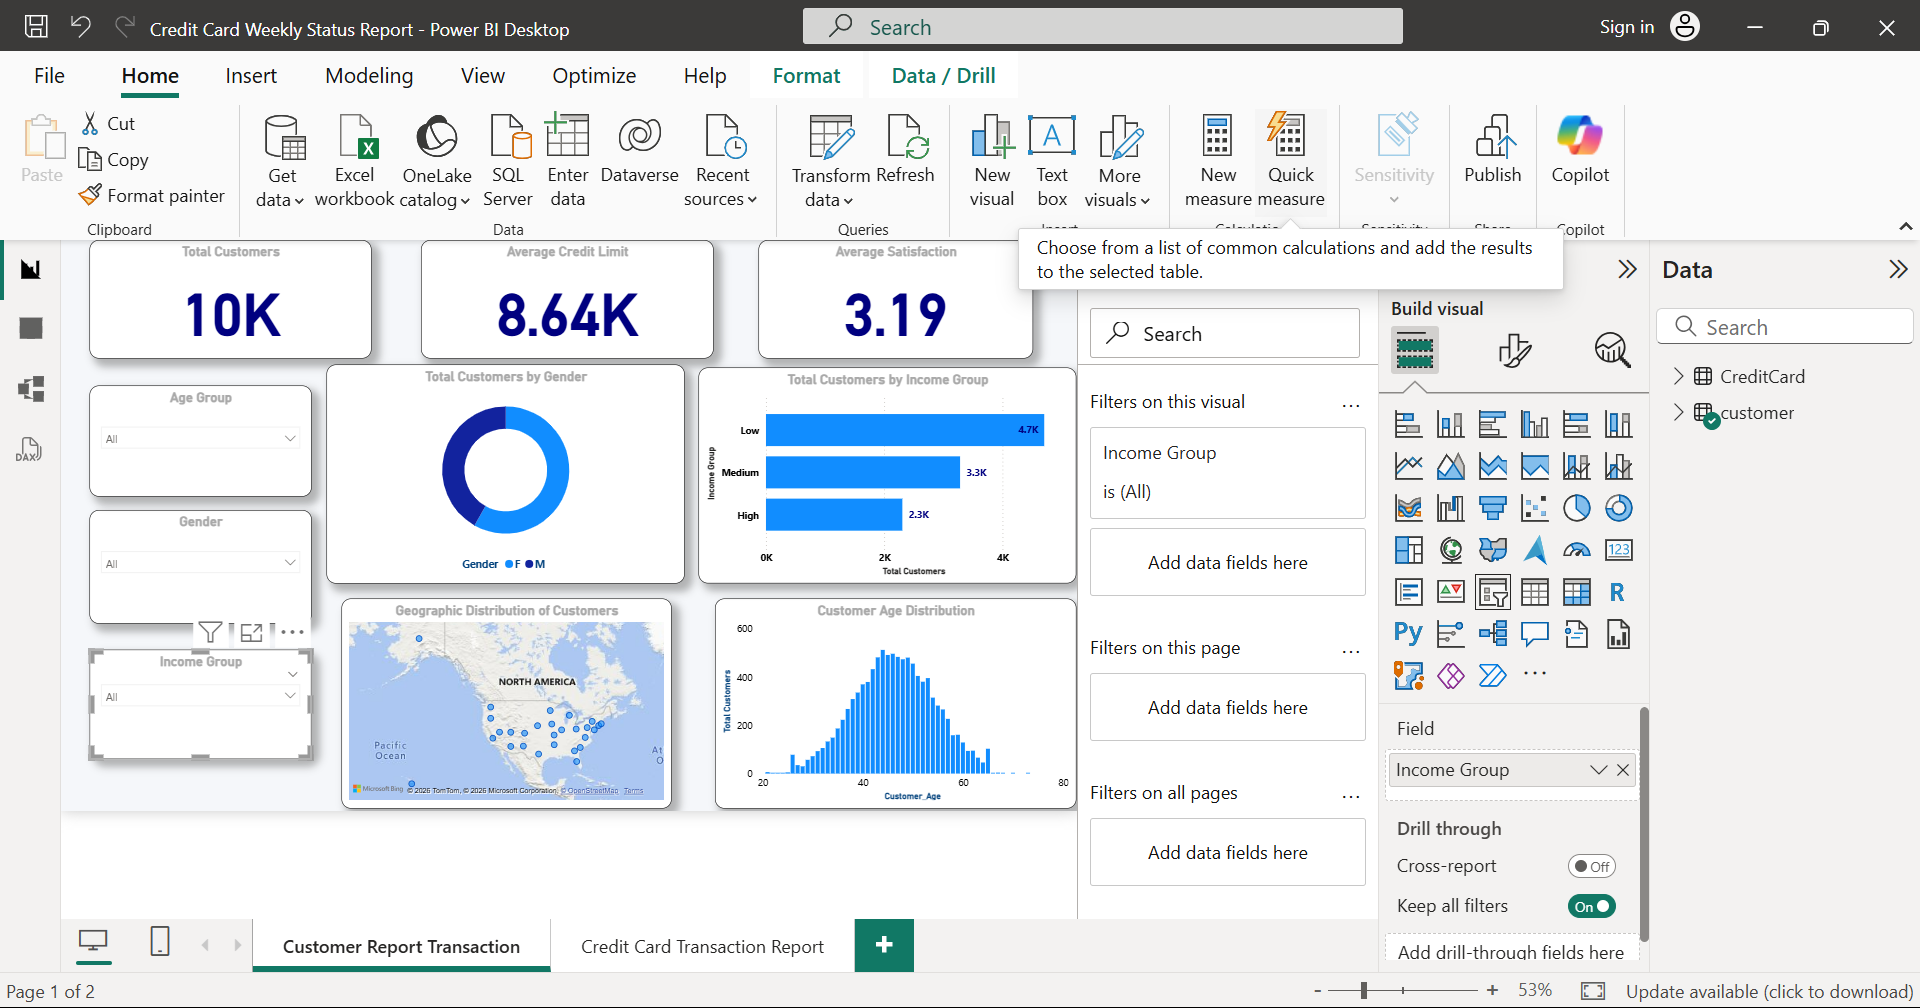

What the dashboard file says about the page in this screenshot:
{"tool":"powerbi","page":{"name":"Customer Report Transaction","canvas":[1280,720],"ordinal":0},"visuals":[{"type":"slicer","title":"Gender","fields":{"Values":["customer.Gender"]},"box":[35.9,340.2,279.7,143.6],"z":0},{"type":"slicer","title":"Age Group","fields":{"Values":["customer.Age Group"]},"box":[35.9,183.3,279.7,139.8],"z":1000},{"type":"slicer","title":"Income Group","fields":{"Values":["customer.Income Group"]},"box":[35.9,515.9,279.7,138],"z":2000},{"type":"card","title":"Total Customers","fields":{"Values":["customer.Total Customers"]},"box":[35.9,0,355.3,149.3],"z":3000},{"type":"card","title":"Average Satisfaction","fields":{"Values":["customer.Avg Satisfaction"]},"box":[878.7,0,345.8,149.3],"z":4000},{"type":"card","title":"Average Credit Limit","fields":{"Values":["customer.Avg Credit Limit"]},"box":[453.5,0,368.5,149.3],"z":5000},{"type":"donutChart","fields":{"Category":["customer.Gender"],"Y":["customer.Total Customers"]},"box":[334.5,156.9,451.7,275.9],"z":6000},{"type":"clusteredColumnChart","title":"Customer Age Distribution","fields":{"Category":["customer.Customer_Age"],"Y":["customer.Total Customers"]},"box":[823.9,451.7,455.4,264.6],"z":7000},{"type":"clusteredBarChart","fields":{"Category":["customer.Income Group"],"Y":["customer.Total Customers"]},"box":[803.2,160.6,476.2,272.1],"z":8000},{"type":"map","title":"Geographic Distribution of Customers","fields":{"Category":["customer.state_cd"]},"box":[353.4,451.7,415.8,264.6],"z":9000}]}

Visuals, with their boxes on the page's 1280x720 design canvas (x1, y1, x2, y2). These are canvas units, not pixel positions in the 1920x1008 screenshot, which may show the page scaled, cropped or inside an application window:
"Gender" slicer: select_region(36, 340, 316, 484)
"Age Group" slicer: select_region(36, 183, 316, 323)
"Income Group" slicer: select_region(36, 516, 316, 654)
"Total Customers" card: select_region(36, 0, 391, 149)
"Average Satisfaction" card: select_region(879, 0, 1224, 149)
"Average Credit Limit" card: select_region(454, 0, 822, 149)
donutChart - customer.Gender x customer.Total Customers: select_region(334, 157, 786, 433)
"Customer Age Distribution" clusteredColumnChart: select_region(824, 452, 1279, 716)
clusteredBarChart - customer.Income Group x customer.Total Customers: select_region(803, 161, 1279, 433)
"Geographic Distribution of Customers" map: select_region(353, 452, 769, 716)
